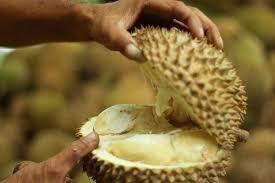kitchen_waste: (130, 24, 255, 143), (73, 97, 237, 183)
